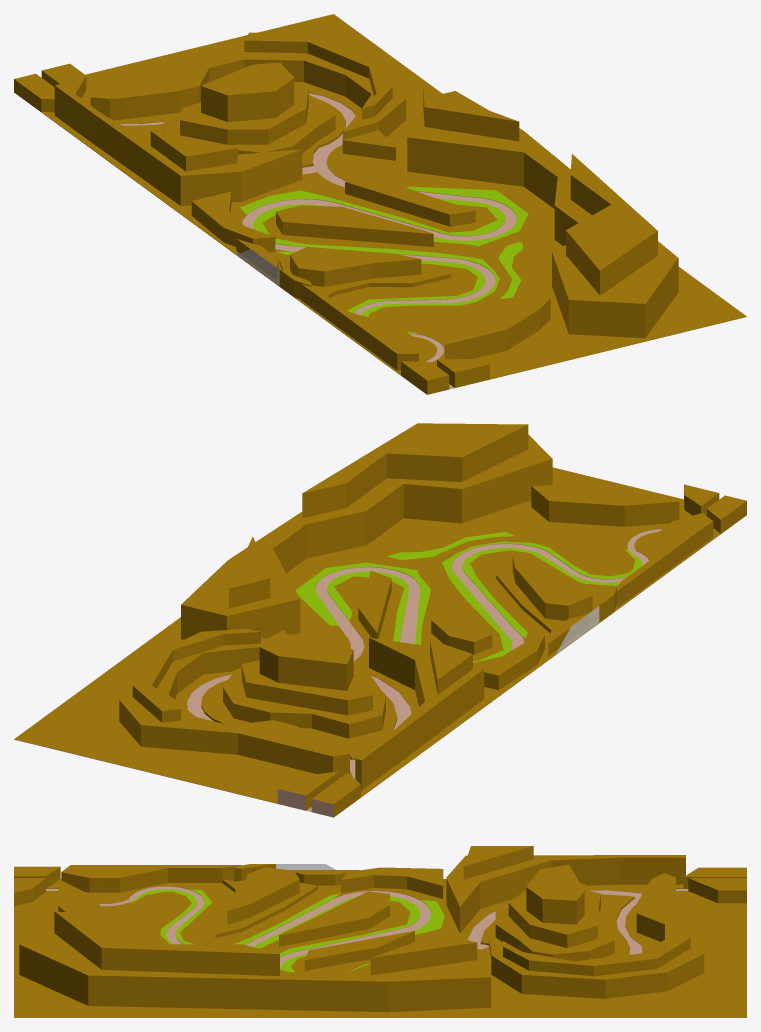
Rendered from map2.gltf.
3 renders of one model, top to bottom at view 1: azimuth 30°, elevation 25°; view 2: azimuth 150°, elevation 25°; view 3: azimuth 270°, elevation 25°, orthographic. The views are drawn at different scales.
Visible parts, largest first — view 1: Node289, Node374, Node276, Node2, Node236, Node397, Node280, Node444, Node362, Node286, Node414, Node359 (+46 smaller); view 2: Node289, Node374, Node276, Node2, Node236, Node397, Node444, Node285, Node362, Node359, Node241, Node325 (+42 smaller); view 3: Node289, Node288, Node374, Node276, Node399, Node2, Node236, Node397, Node277, Node287, Node394, Node208 (+60 smaller).
Boxes of the visible parts, bbox=[...] form: Node289: bbox=[81, 14, 746, 378]; Node374: bbox=[42, 112, 497, 374]; Node276: bbox=[407, 91, 677, 303]; Node2: bbox=[119, 93, 516, 389]; Node236: bbox=[91, 40, 405, 131]; Node397: bbox=[566, 154, 657, 270]; Node280: bbox=[407, 137, 523, 186]; Node444: bbox=[253, 186, 528, 333]; Node362: bbox=[93, 114, 180, 205]; Node286: bbox=[569, 300, 645, 338]; Node414: bbox=[276, 205, 432, 233]; Node359: bbox=[55, 84, 301, 175]; Node289: bbox=[14, 467, 692, 803]; Node374: bbox=[334, 528, 720, 796]; Node276: bbox=[181, 434, 551, 615]; Node2: bbox=[187, 529, 661, 811]; Node236: bbox=[119, 637, 349, 756]; Node397: bbox=[303, 423, 527, 492]; Node444: bbox=[295, 541, 642, 662]; Node285: bbox=[462, 458, 552, 523]; Node362: bbox=[400, 669, 484, 761]; Node359: bbox=[356, 637, 483, 760]; Node241: bbox=[141, 725, 237, 754]; Node325: bbox=[201, 680, 397, 758]; Node289: bbox=[14, 891, 746, 1017]; Node288: bbox=[88, 975, 388, 1012]; Node374: bbox=[46, 879, 683, 972]; Node276: bbox=[19, 925, 490, 981]; Node399: bbox=[101, 948, 279, 976]; Node2: bbox=[46, 886, 688, 969]; Node236: bbox=[489, 873, 703, 979]; Node397: bbox=[55, 911, 278, 953]; Node277: bbox=[389, 977, 490, 1012]; Node287: bbox=[19, 944, 88, 1005]; Node394: bbox=[370, 942, 477, 975]; Node208: bbox=[495, 890, 614, 954].
Bounding box in the file's own units: 3617 × 645 × 8097.
